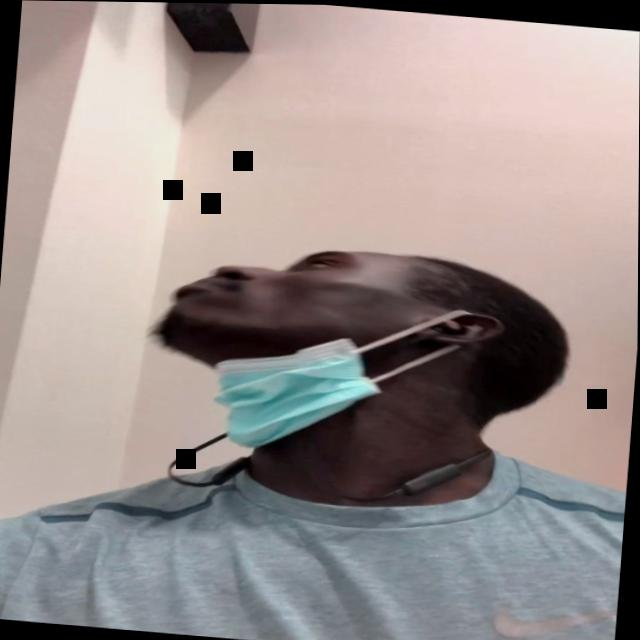NO-Mask: (142, 233, 461, 463)
